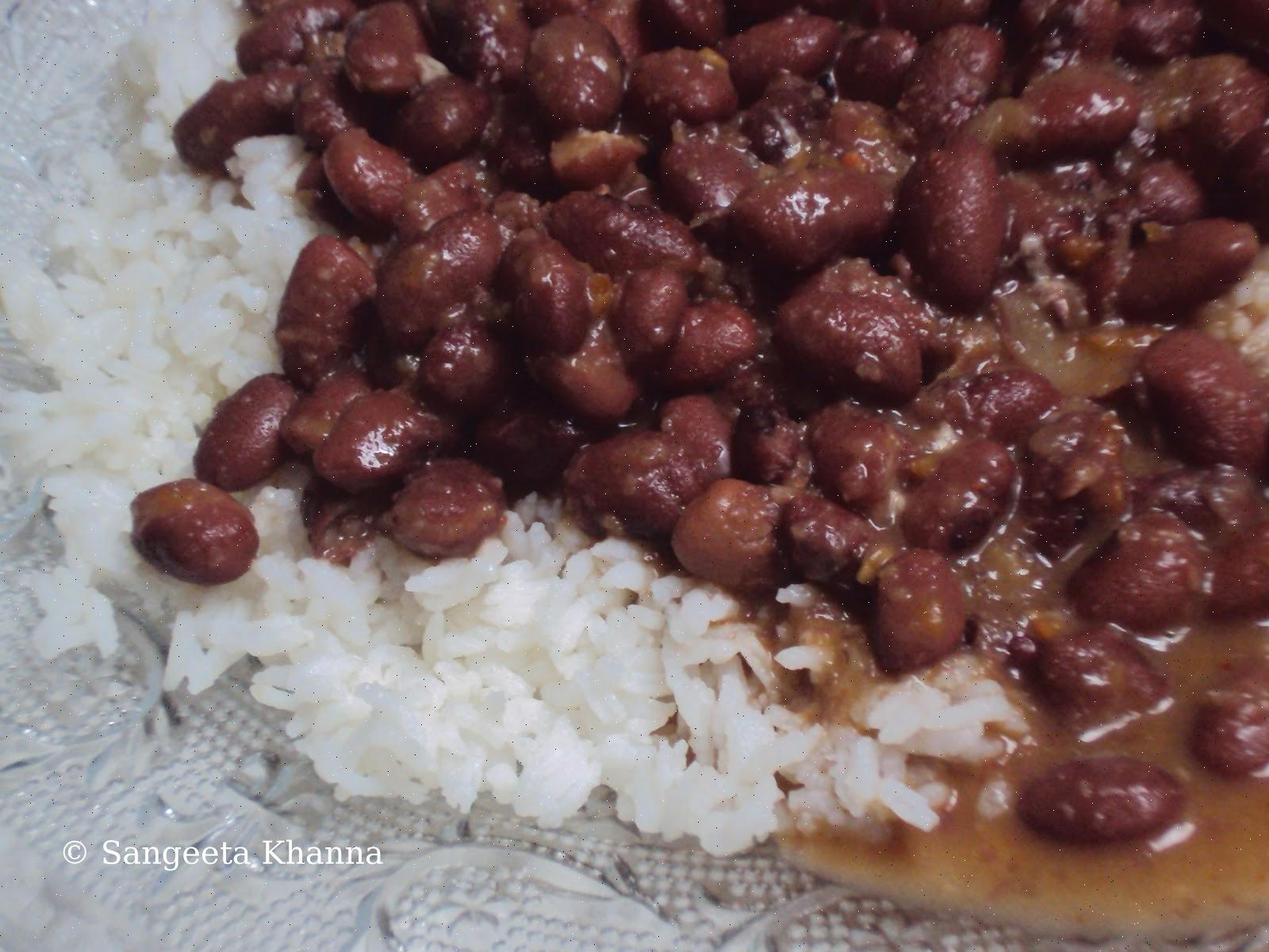rajma: (418, 0, 1269, 566)
